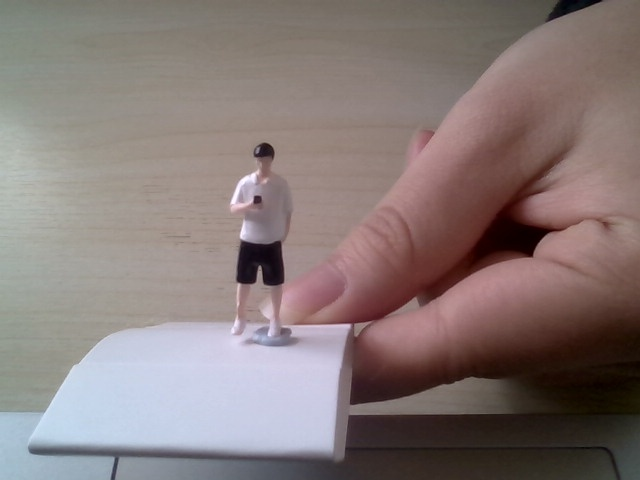walk: (223, 136, 302, 345)
